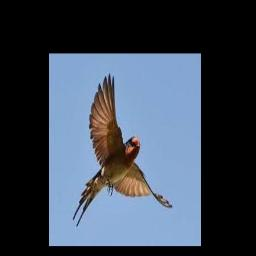Swallow: (73, 74, 173, 227)
